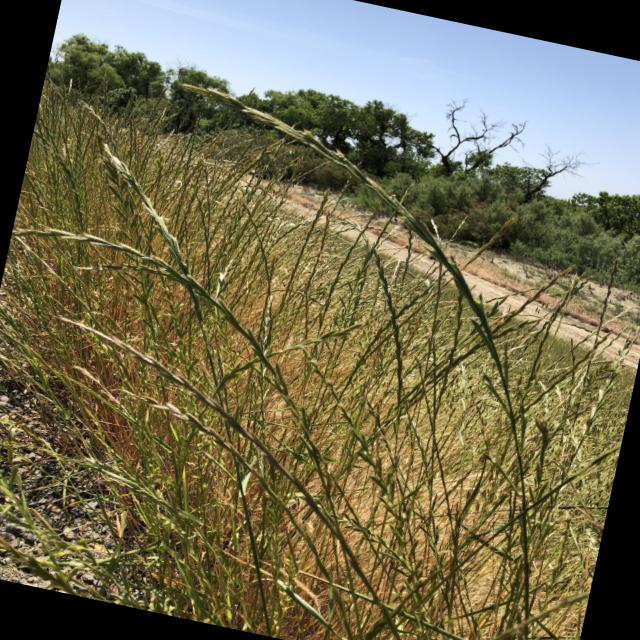Lolium: (135, 80, 552, 380), (19, 314, 388, 560), (0, 217, 336, 432), (243, 347, 482, 640), (90, 391, 362, 585), (188, 292, 360, 468), (68, 145, 234, 320), (417, 241, 574, 418), (310, 508, 444, 632), (342, 246, 434, 400), (213, 202, 291, 340), (315, 200, 377, 334), (354, 272, 431, 371)
